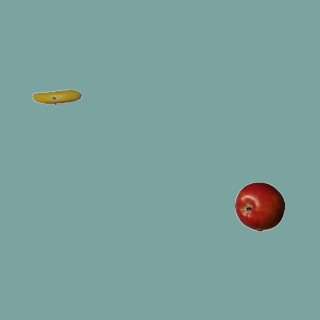Apple Braeburn: (234, 181, 284, 231)
Banana: (31, 72, 81, 122)
